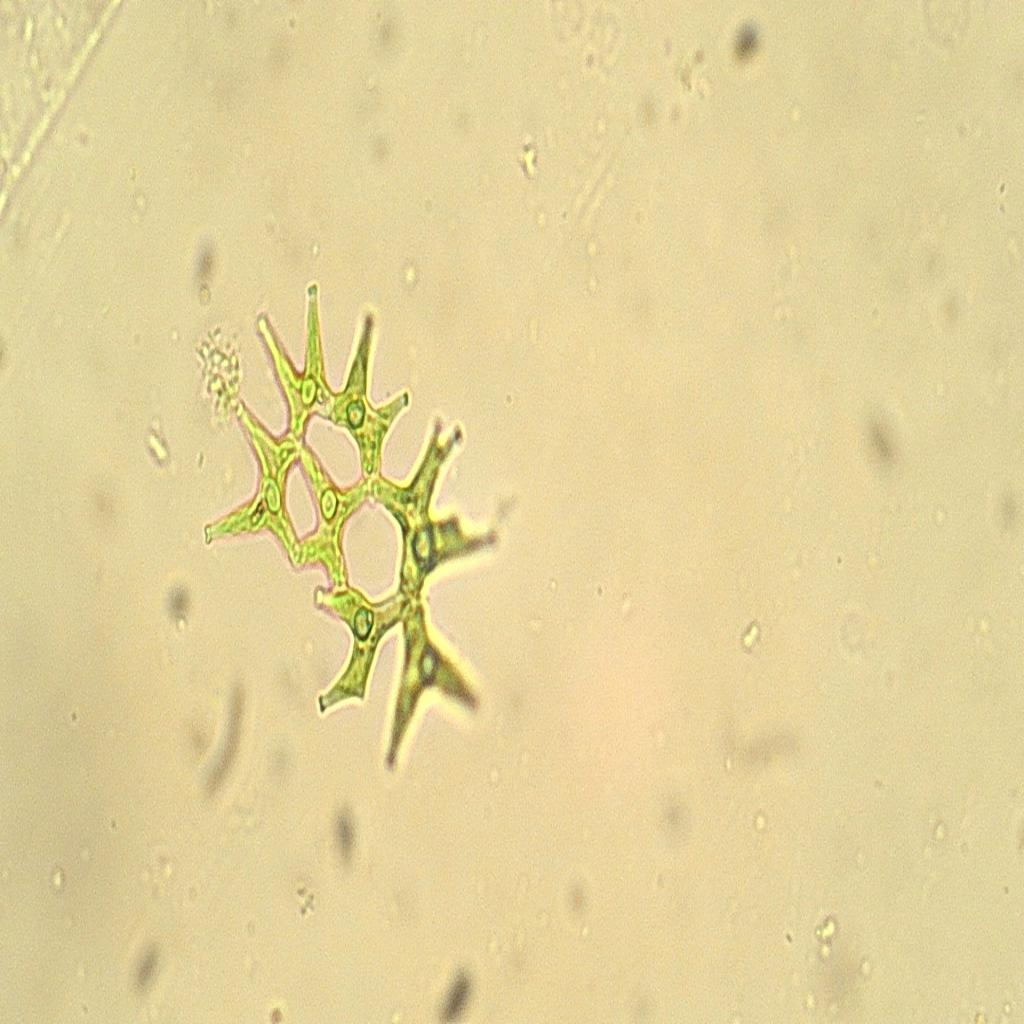Pediastrum_1TH: (200, 273, 523, 790)
